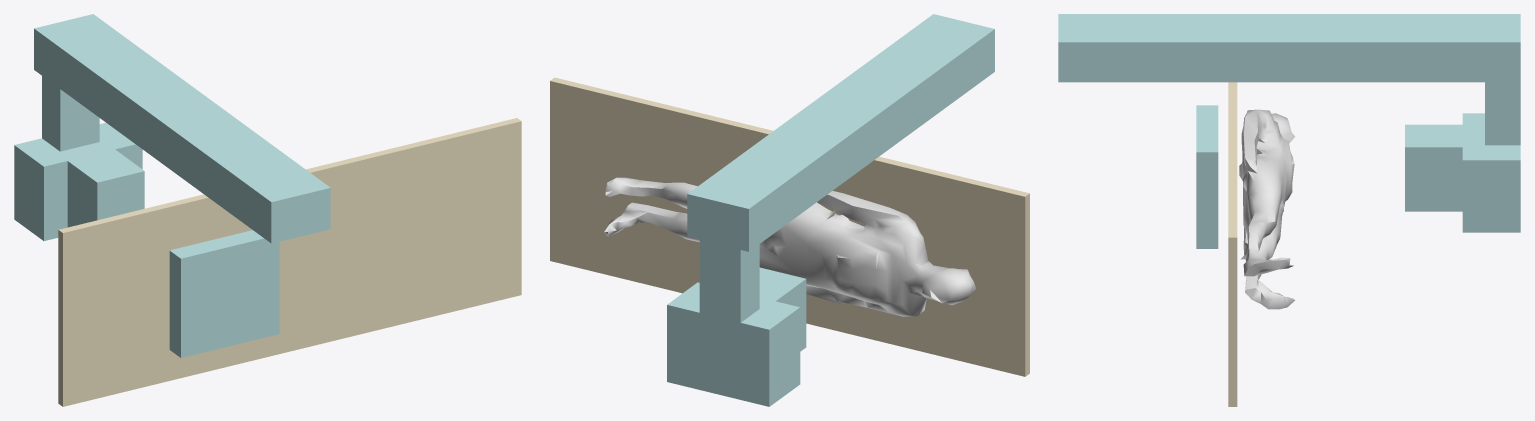
The model's file is Xraymachine.glb.
3 renders of one model, left to right at view 1: azimuth 30°, elevation 25°; view 2: azimuth 150°, elevation 25°; view 3: azimuth 270°, elevation 25°, orthographic. The views are drawn at different scales.
Visible parts, largest first — view 1: bed, xtube; view 2: bed, xtube, obj2; view 3: xtube, obj2, bed.
Part boxes in pixels (bbox=[...]): bed: bbox=[58, 118, 521, 406]; xtube: bbox=[14, 14, 330, 357]; bed: bbox=[550, 77, 1029, 376]; xtube: bbox=[667, 14, 994, 406]; obj2: bbox=[604, 177, 976, 316]; xtube: bbox=[1058, 14, 1520, 248]; obj2: bbox=[1239, 109, 1295, 309]; bed: bbox=[1228, 82, 1237, 406].
Bounding box in the file's own units: 23.2 × 11.55 × 20.8.
